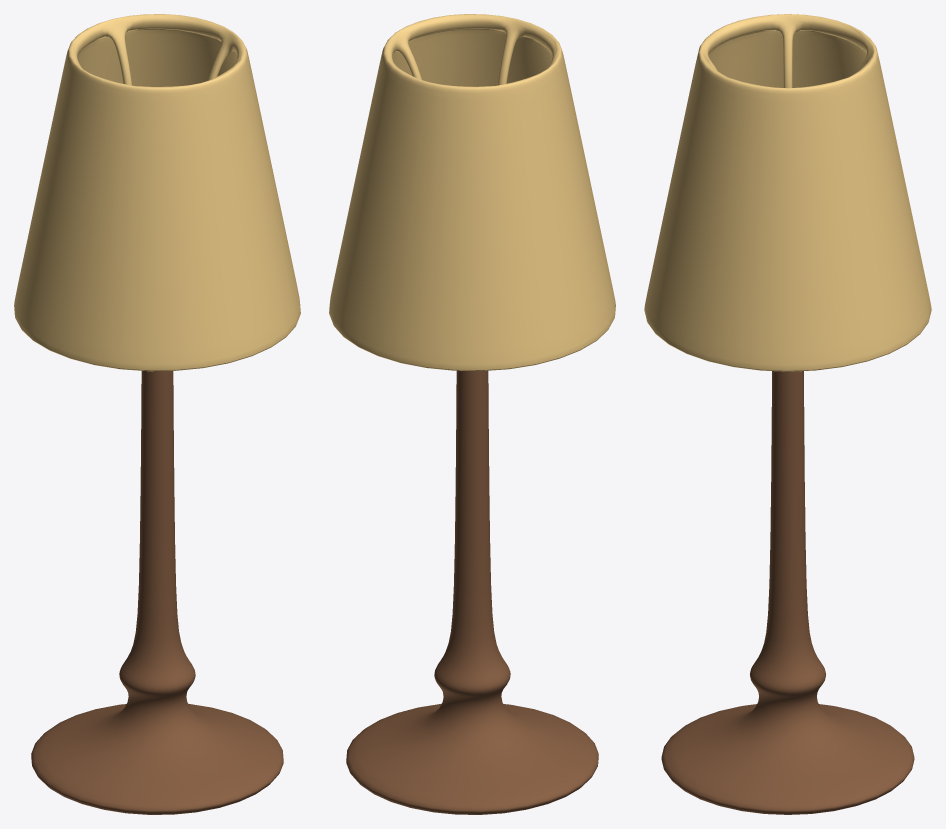
The model's file is 29_tall_lamp.glb.
3 views of the same model, side by side, from view 1: azimuth 30°, elevation 25°; view 2: azimuth 150°, elevation 25°; view 3: azimuth 270°, elevation 25° (orthographic).
Parts seen in each view (by area): view 1: head, foot; view 2: head, foot; view 3: head, foot.
Boxes of the visible parts, left/top/right/bottom form: head: left=14, top=14, right=300, bottom=371; foot: left=31, top=371, right=283, bottom=814; head: left=329, top=14, right=615, bottom=370; foot: left=346, top=370, right=598, bottom=814; head: left=644, top=14, right=931, bottom=371; foot: left=661, top=371, right=914, bottom=814.
Size of the model in its own units: 0.7957 by 2.19 by 0.7957.
